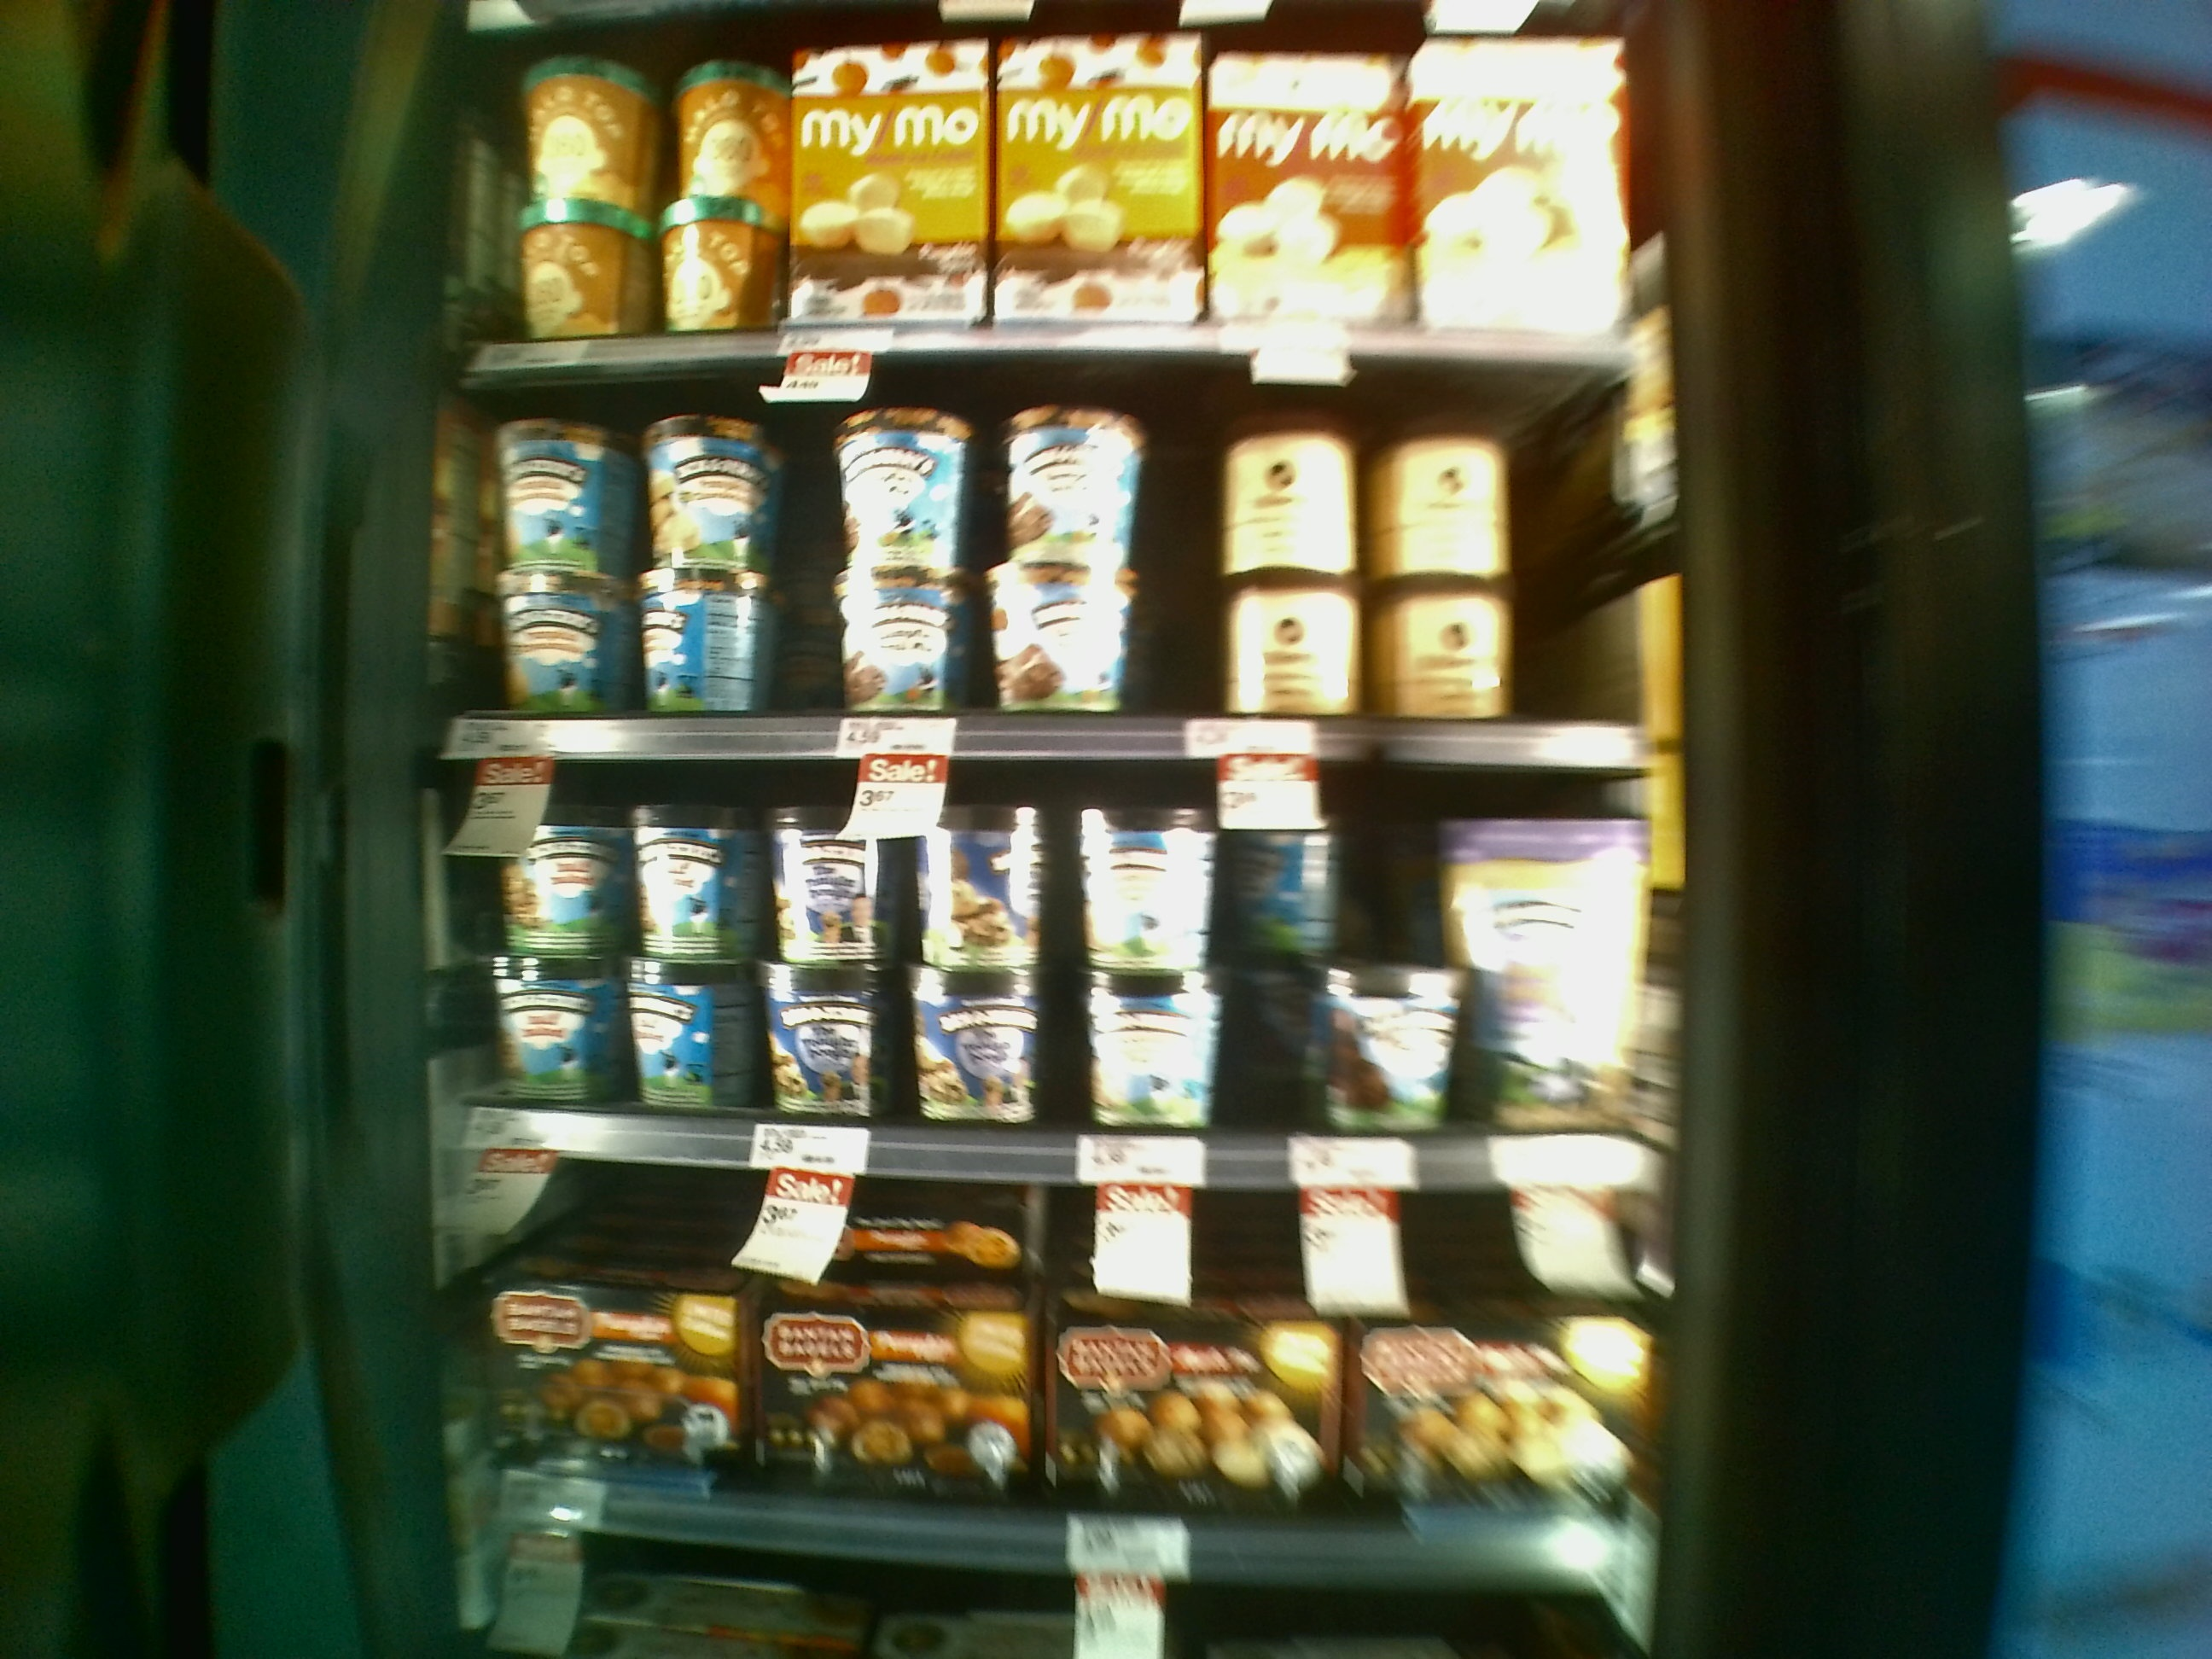shelf: (381, 763, 1688, 1190), (355, 1161, 1688, 1577), (413, 362, 1679, 781)
